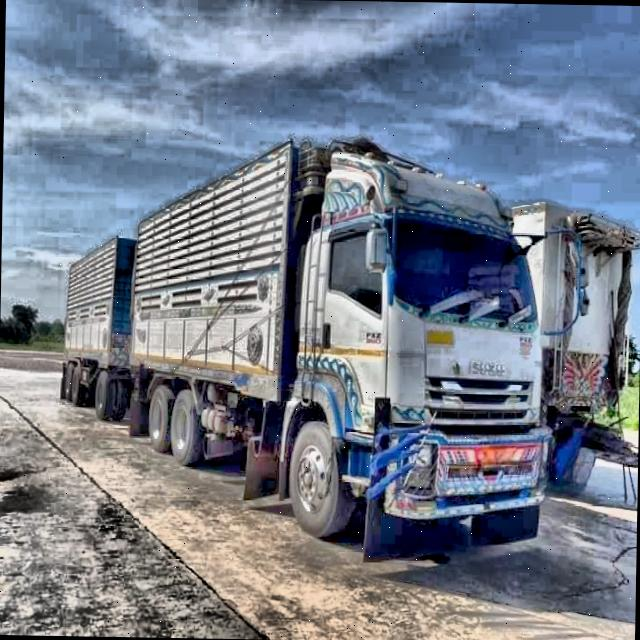trailer: (56, 132, 558, 546)
